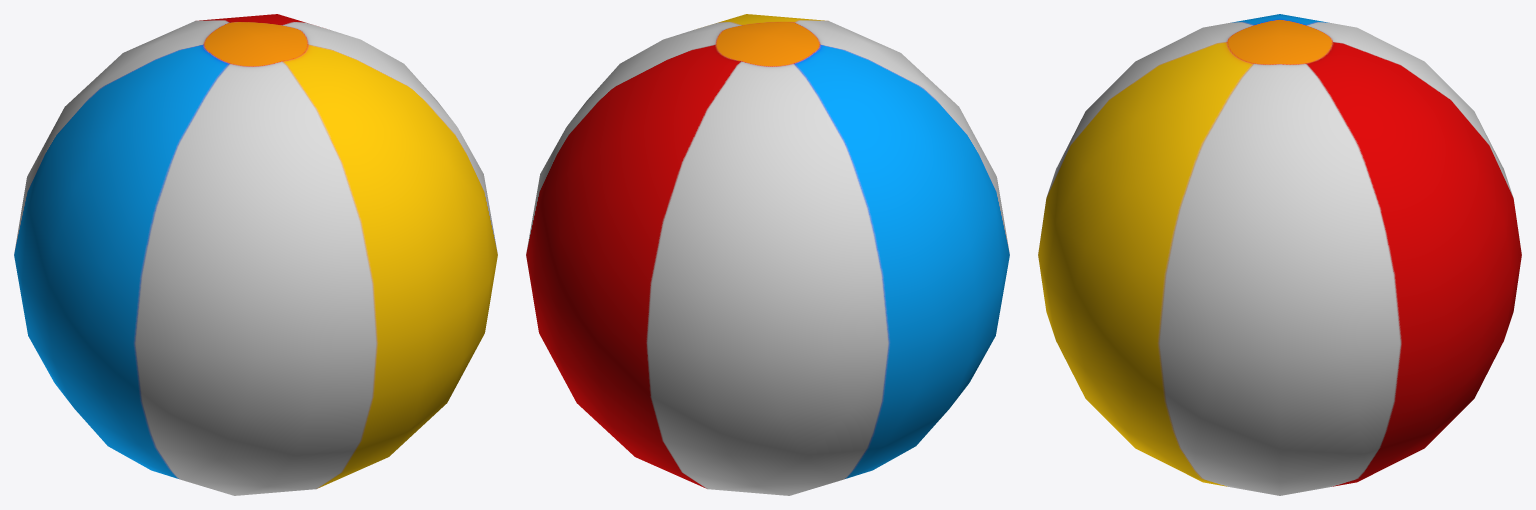
Rendered from Beachball.FBX.
3 views of the same model, side by side, from view 1: azimuth 30°, elevation 25°; view 2: azimuth 150°, elevation 25°; view 3: azimuth 270°, elevation 25° (orthographic).
Parts seen in each view (by area): view 1: Beachball; view 2: Beachball; view 3: Beachball.
Part boxes in pixels (x1,y1,x2,y2): Beachball: (14,14,497,495); Beachball: (526,14,1009,495); Beachball: (1038,14,1521,495).
Bounding box in the file's own units: 90.86 × 90.86 × 90.86.
